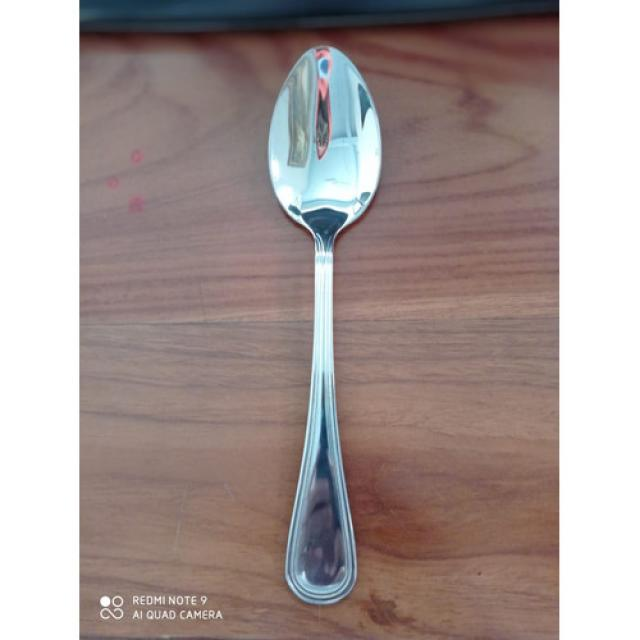spoon: (241, 48, 418, 618)
